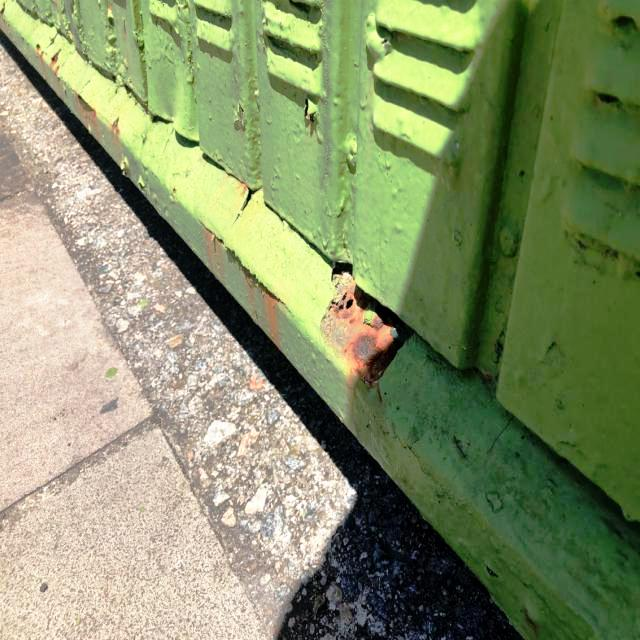Corrosion: (318, 259, 413, 386), (199, 221, 294, 317), (31, 34, 102, 121), (111, 112, 123, 133)
